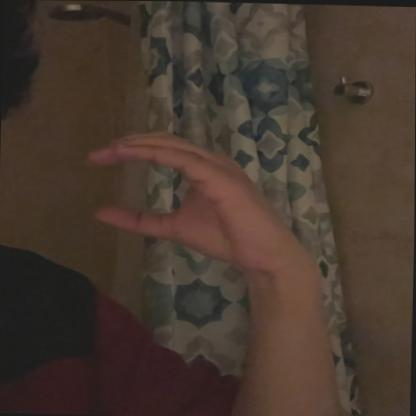C: (80, 120, 274, 270)
